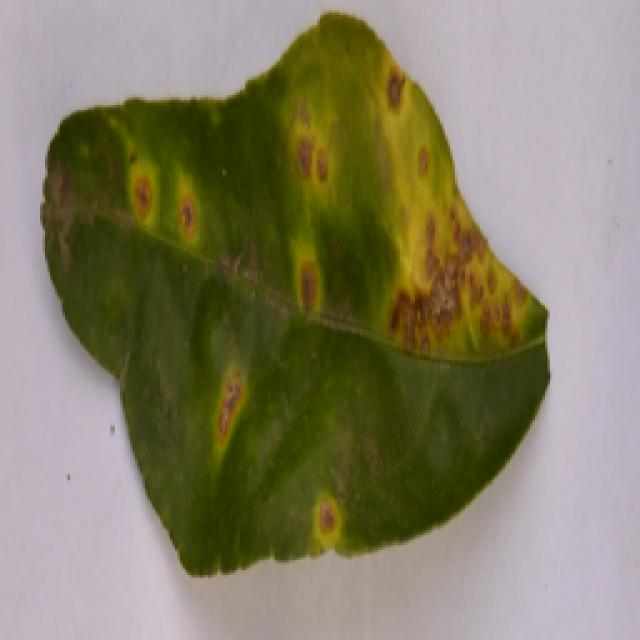canker: (62, 75, 580, 573)
